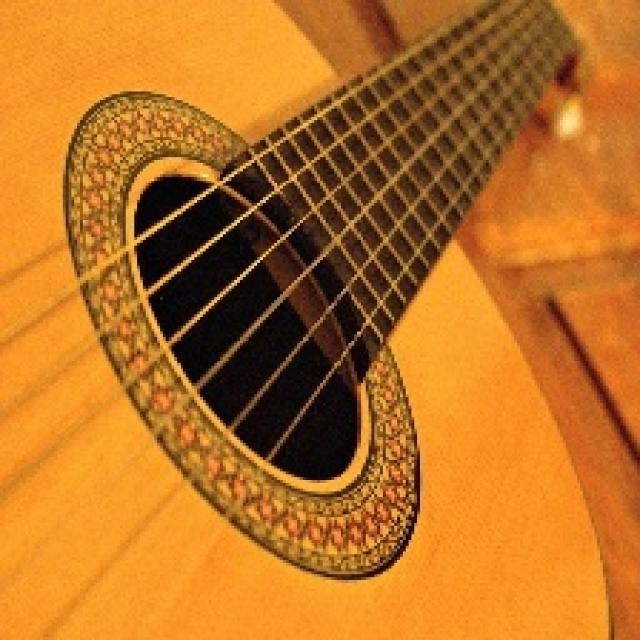acousticguitar: (0, 1, 606, 637)
